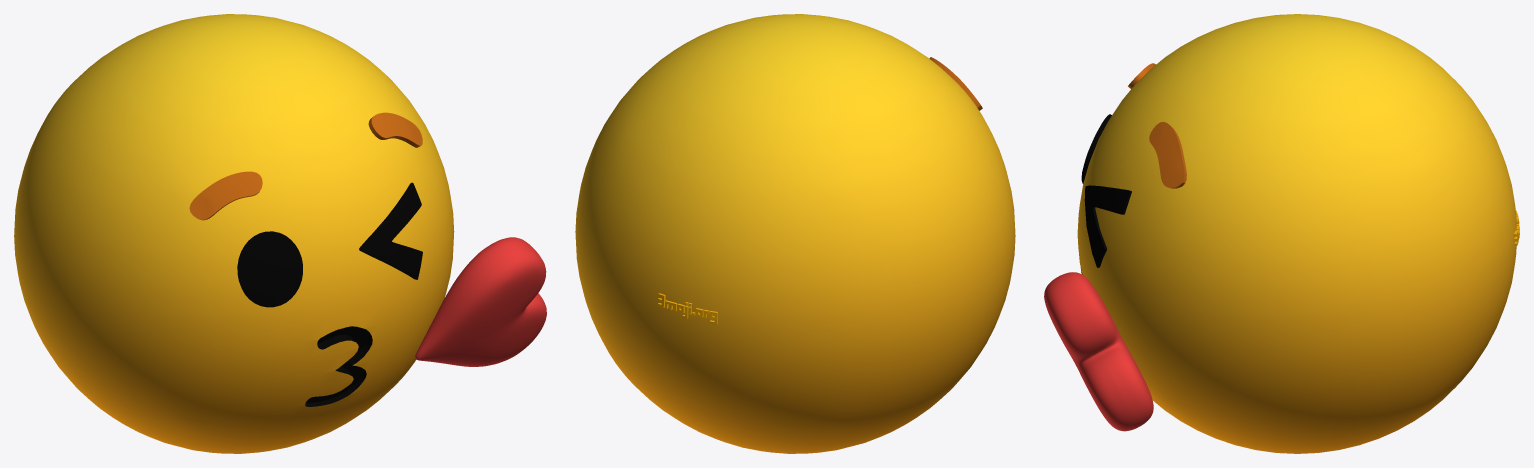
Rendered from face_blowing_a_kiss.glb.
3 views of the same model, side by side, from view 1: azimuth 30°, elevation 25°; view 2: azimuth 150°, elevation 25°; view 3: azimuth 270°, elevation 25° (orthographic).
Parts seen in each view (by area): view 1: Face Blowing a Kiss; view 2: Face Blowing a Kiss; view 3: Face Blowing a Kiss.
Part boxes in pixels (x1,y1,x2,y2): Face Blowing a Kiss: [14, 14, 546, 453]; Face Blowing a Kiss: [575, 14, 1015, 453]; Face Blowing a Kiss: [1044, 14, 1519, 453].
Bounding box in the file's own units: 1.81 × 1.69 × 1.83.
Materials: 1 (1 with a texture image).
